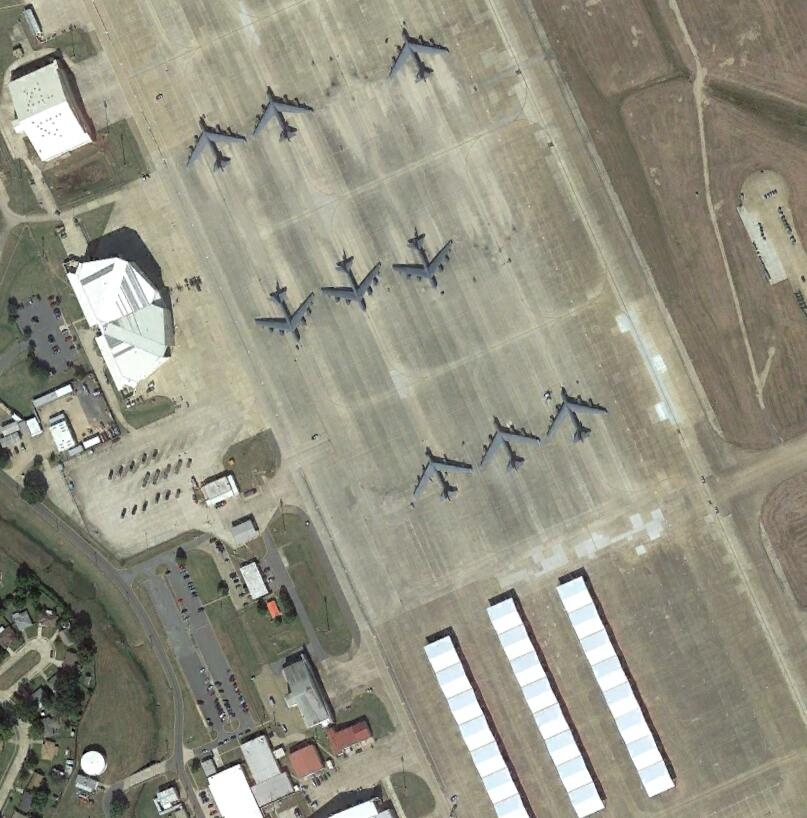A8: (250, 284, 320, 347), (479, 407, 543, 474), (391, 229, 460, 291), (406, 444, 476, 505), (543, 382, 610, 445), (385, 26, 454, 87), (181, 112, 249, 172), (250, 84, 315, 144), (320, 252, 386, 311)
